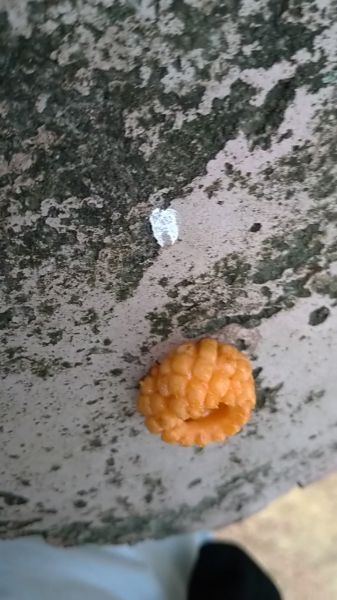eggs: (127, 329, 266, 449)
